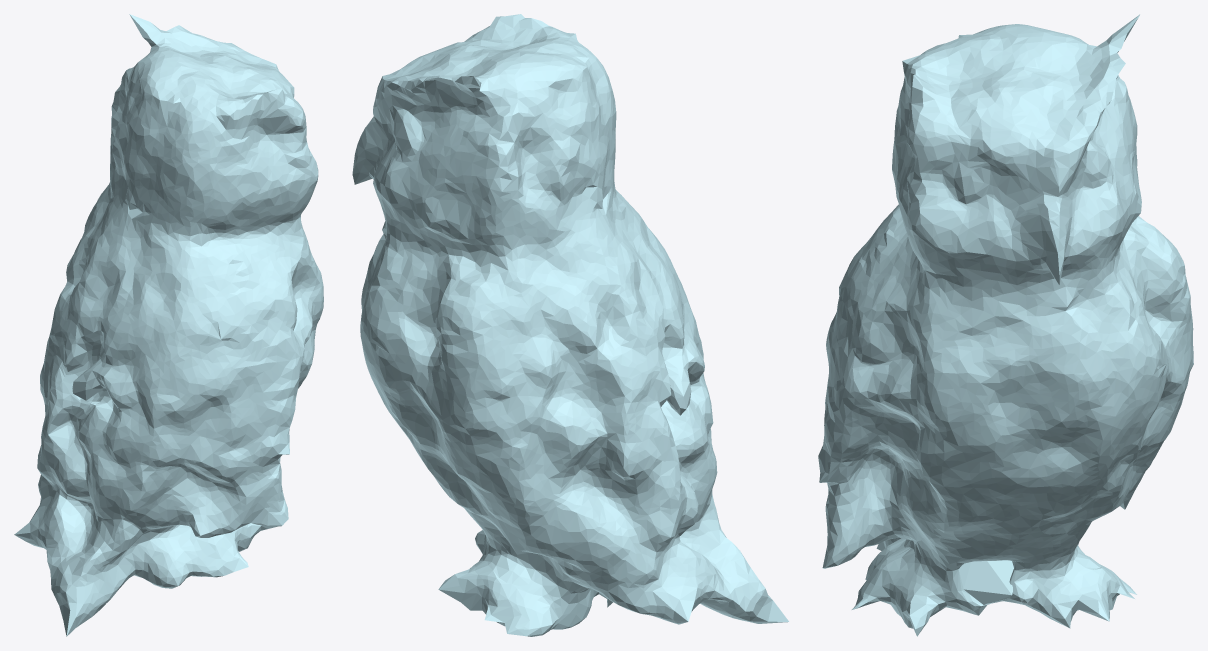
File: owl-scribble.glb
The picture shows the model from 3 angles, left to right: view 1: azimuth 30°, elevation 25°; view 2: azimuth 150°, elevation 25°; view 3: azimuth 270°, elevation 25°; orthographic projection. The views are drawn at different scales.
Visible parts, largest first — view 1: extracted_mesh; view 2: extracted_mesh; view 3: extracted_mesh.
Part boxes in pixels (<box>): extracted_mesh: <box>14,14,323,636</box>; extracted_mesh: <box>352,14,788,636</box>; extracted_mesh: <box>818,14,1193,636</box>.
Bounding box in the file's own units: 0.5986 × 0.9529 × 0.5089.
Materials: 1 (1 with a texture image).
